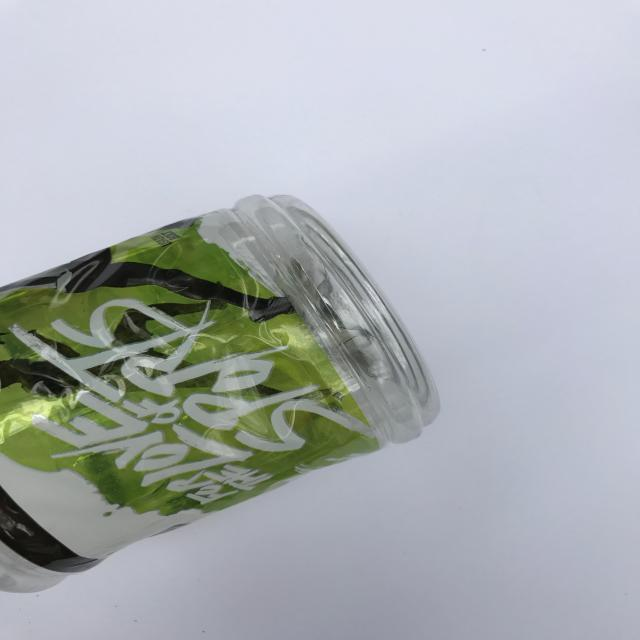plastic: (0, 204, 455, 598)
